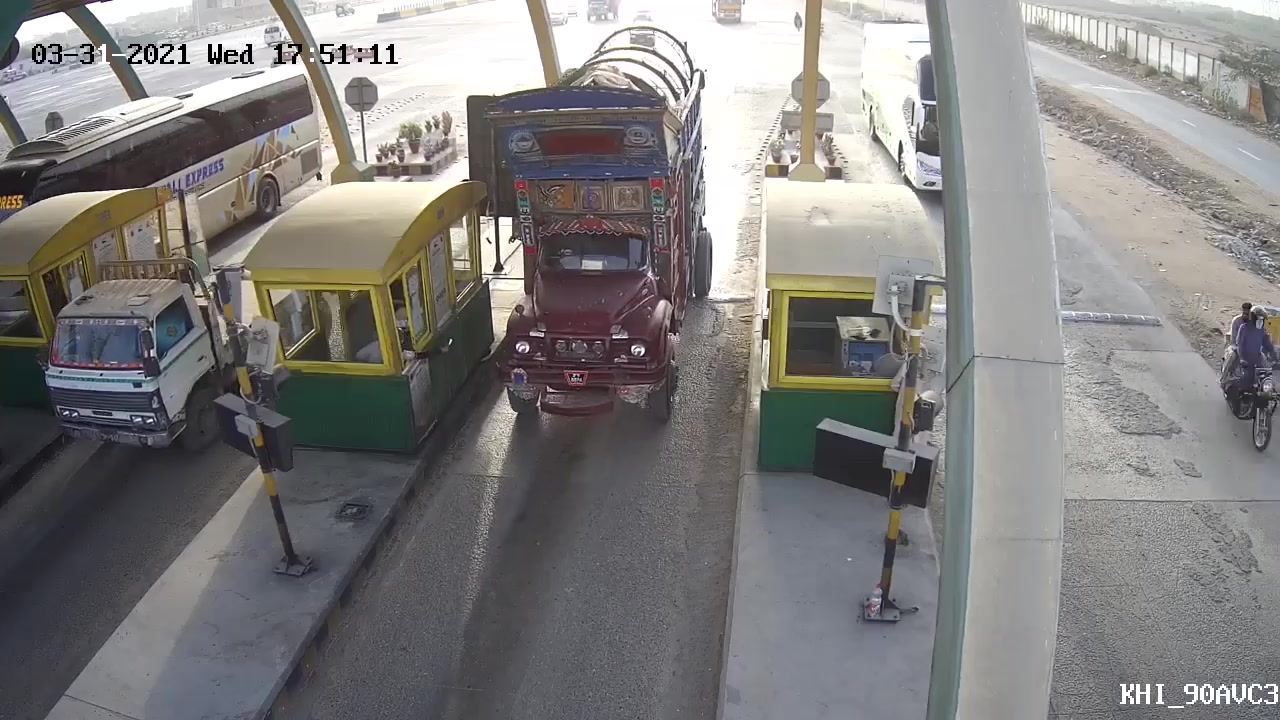F5: (486, 19, 723, 436)
